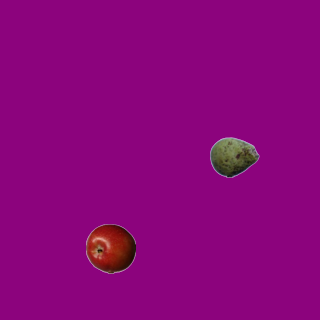Apple Braeburn: (85, 223, 135, 273)
Pear Stone: (209, 132, 259, 182)
